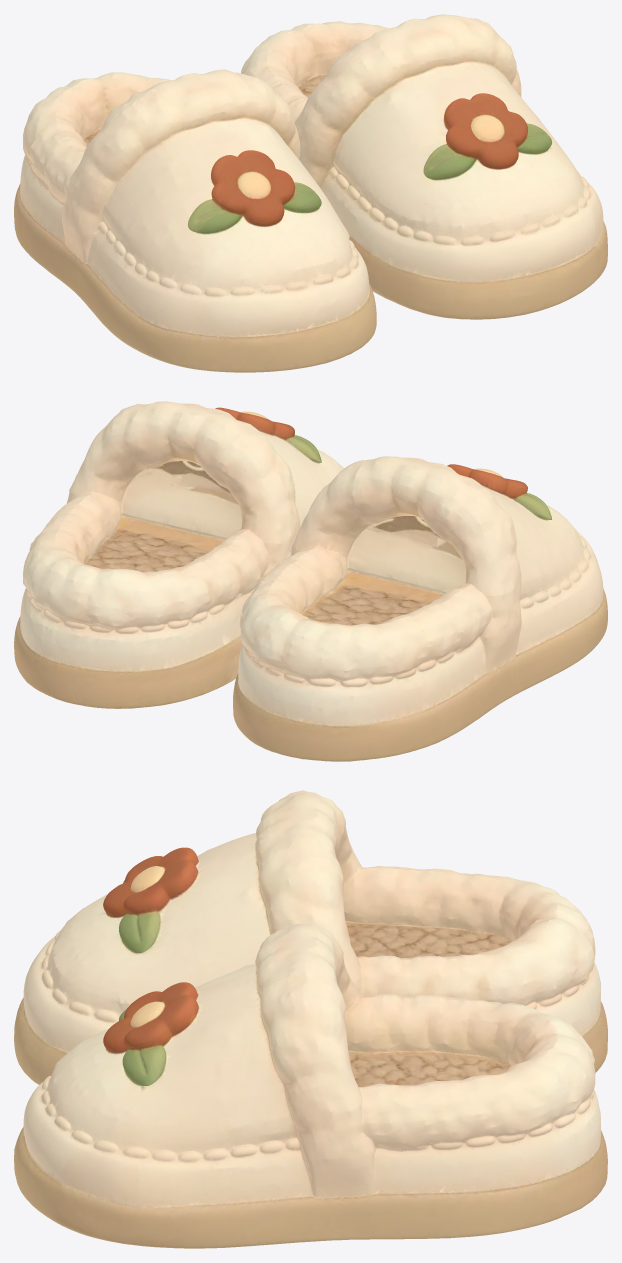
Rendered from Meshy_AI_model.glb.
3 renders of one model, top to bottom at view 1: azimuth 30°, elevation 25°; view 2: azimuth 150°, elevation 25°; view 3: azimuth 270°, elevation 25°, orthographic. The views are drawn at different scales.
Visible parts, largest first — view 1: mesh_node; view 2: mesh_node; view 3: mesh_node.
Part boxes in pixels (x1=…): mesh_node: x1=14, y1=14, x2=607, y2=372; mesh_node: x1=14, y1=401, x2=607, y2=761; mesh_node: x1=14, y1=790, x2=607, y2=1248.
Size of the model in its own units: 1.9 by 0.7825 by 1.77.
1 material, 1 textured.
